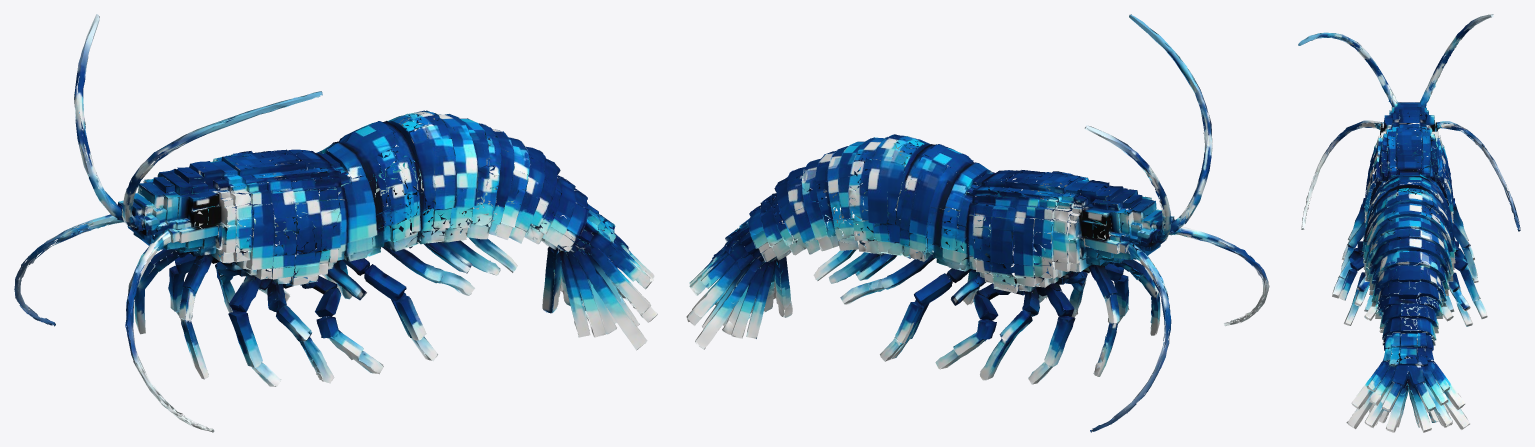
Rendered from shrimp_b.glb.
The picture shows the model from 3 angles, left to right: view 1: azimuth 30°, elevation 25°; view 2: azimuth 150°, elevation 25°; view 3: azimuth 270°, elevation 25°; orthographic projection. The views are drawn at different scales.
Visible parts, largest first — view 1: node_0; view 2: node_0; view 3: node_0.
Part boxes in pixels (x1=…): node_0: x1=14, y1=14, x2=657, y2=432; node_0: x1=686, y1=14, x2=1269, y2=432; node_0: x1=1298, y1=14, x2=1520, y2=432.
Size of the model in its own units: 1.04 by 0.6559 by 0.5027.
Materials: 1 (1 with a texture image).
